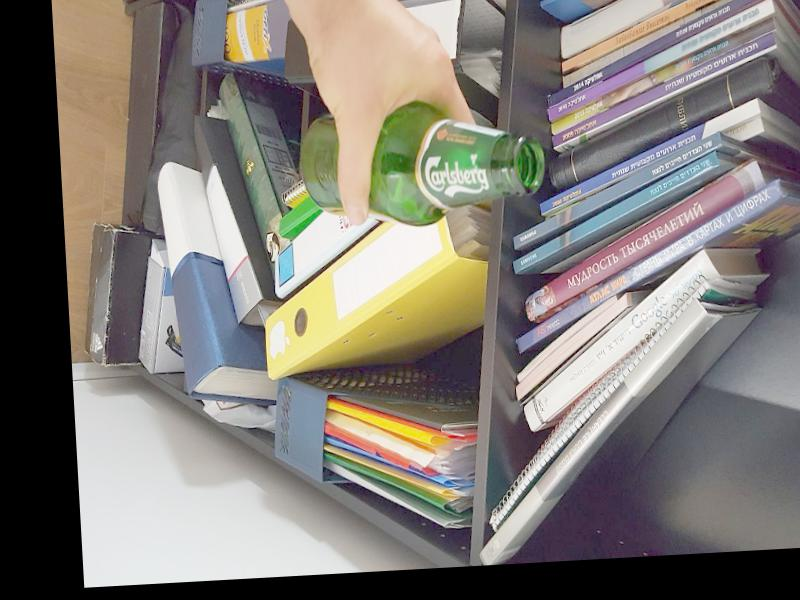Beer: (295, 98, 546, 230)
